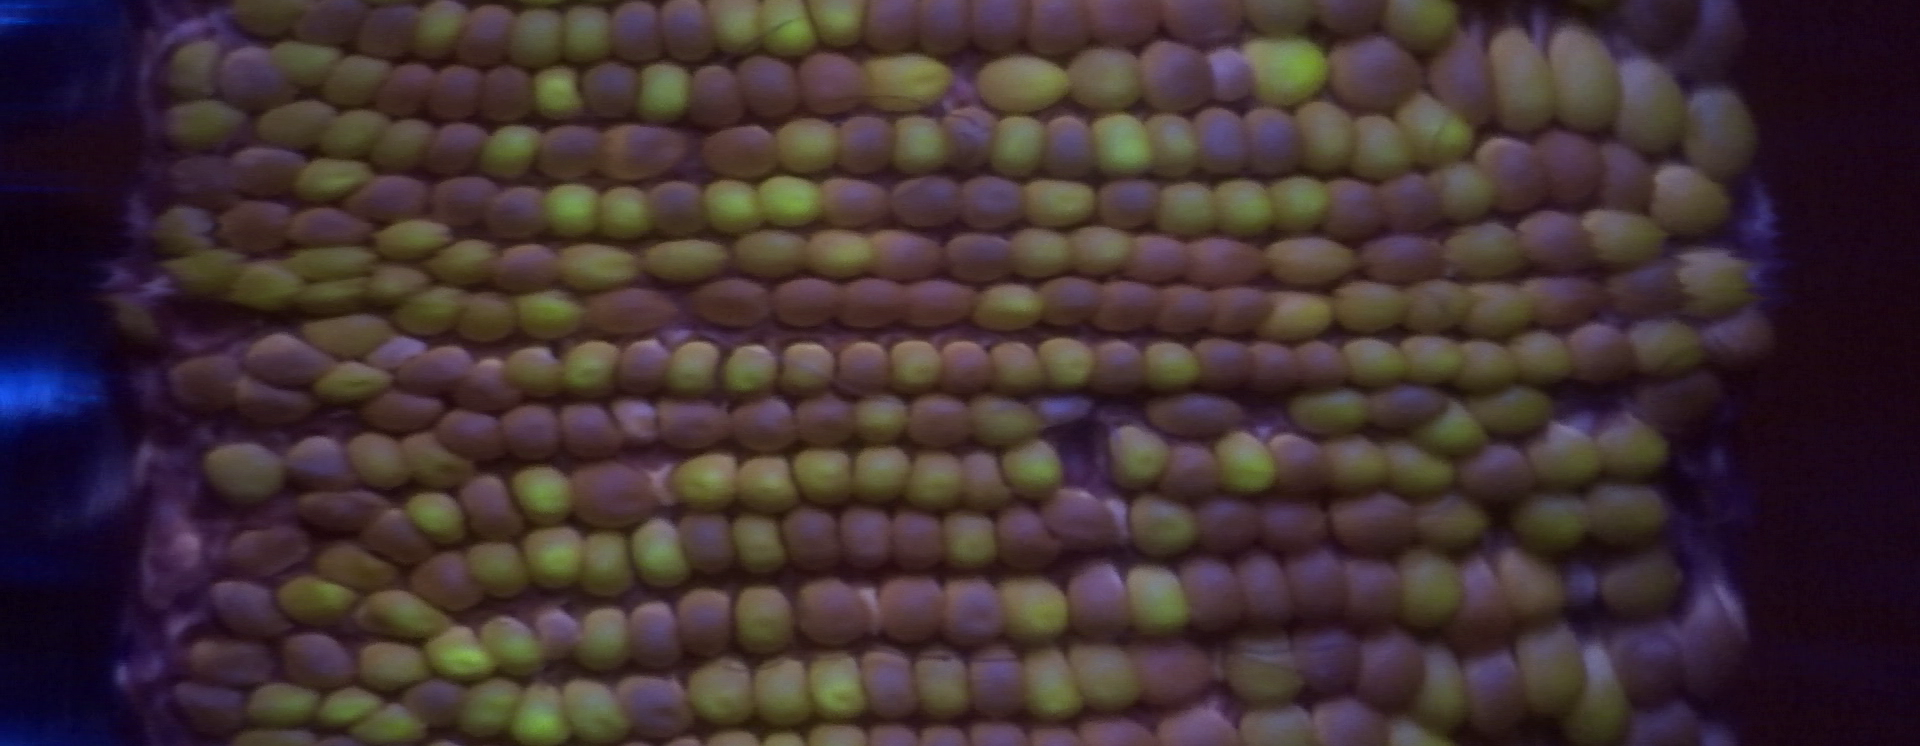fluorescent: (1614, 55, 1686, 153), (1551, 24, 1619, 129), (1491, 28, 1551, 138), (1513, 628, 1589, 710), (1224, 631, 1302, 709), (1689, 93, 1763, 174), (204, 439, 287, 510), (1398, 548, 1463, 635), (1528, 414, 1604, 488), (1654, 160, 1733, 232), (1250, 33, 1327, 104), (867, 59, 962, 115), (1674, 249, 1749, 320), (973, 58, 1069, 113), (1513, 491, 1596, 555), (1580, 206, 1668, 263), (1610, 548, 1681, 619), (1584, 486, 1667, 548), (804, 650, 872, 724), (1407, 96, 1473, 168), (167, 247, 239, 314), (1576, 652, 1626, 746), (1073, 639, 1139, 710), (1128, 560, 1187, 639), (733, 587, 796, 661), (687, 660, 759, 724), (1412, 643, 1467, 726), (360, 592, 454, 639), (1300, 97, 1353, 180), (1005, 581, 1073, 646), (1449, 225, 1524, 283), (567, 676, 629, 746), (1124, 492, 1194, 555), (1075, 47, 1146, 108), (1382, 437, 1455, 497), (1460, 281, 1532, 341), (1631, 316, 1701, 377), (1347, 115, 1412, 180), (1022, 650, 1080, 723), (1260, 288, 1333, 344), (1608, 416, 1671, 481), (1212, 173, 1275, 239), (733, 457, 804, 514), (1090, 111, 1153, 175), (522, 530, 585, 594), (793, 446, 856, 511), (917, 650, 973, 722), (512, 465, 574, 529), (846, 443, 911, 505), (1332, 279, 1409, 331), (512, 680, 572, 746), (1267, 234, 1352, 281), (425, 625, 493, 681), (733, 511, 790, 579), (1108, 423, 1164, 491), (647, 233, 727, 281), (756, 657, 809, 728), (394, 283, 460, 341), (305, 309, 384, 356), (168, 100, 249, 147), (633, 60, 692, 124), (1270, 173, 1329, 236), (1217, 428, 1272, 495), (1412, 401, 1480, 454), (759, 169, 820, 229), (1237, 702, 1320, 746), (579, 537, 637, 600), (631, 522, 688, 586), (1331, 436, 1389, 500), (671, 454, 738, 508), (1344, 334, 1413, 387), (1284, 390, 1364, 435), (486, 615, 547, 674), (518, 285, 587, 337), (909, 454, 969, 513), (1516, 331, 1573, 392), (778, 118, 838, 175), (1402, 279, 1464, 334), (1139, 341, 1202, 394), (358, 642, 427, 691), (561, 244, 638, 288), (736, 230, 807, 278), (278, 575, 353, 620), (480, 121, 536, 181), (507, 9, 563, 69), (414, 4, 470, 64), (1011, 227, 1073, 282), (1025, 178, 1095, 225), (1439, 159, 1489, 225), (708, 5, 767, 61), (576, 612, 631, 673), (411, 436, 471, 491), (942, 513, 997, 573), (756, 2, 816, 58), (996, 115, 1049, 176), (256, 100, 331, 145), (326, 58, 388, 110), (1416, 499, 1484, 546), (316, 359, 388, 404), (1387, 2, 1460, 48), (294, 158, 375, 198), (408, 492, 465, 549), (1453, 334, 1513, 388), (1476, 388, 1547, 434), (893, 118, 949, 174), (1157, 179, 1213, 235), (531, 67, 589, 122), (1075, 225, 1133, 281), (1008, 443, 1063, 501), (168, 38, 222, 97), (108, 294, 167, 348), (973, 282, 1040, 330), (427, 239, 493, 287), (229, 262, 295, 310), (468, 676, 518, 739), (245, 684, 320, 725), (594, 183, 649, 239), (807, 227, 869, 276), (563, 338, 612, 401), (471, 539, 527, 594), (353, 432, 408, 488), (852, 387, 906, 443), (367, 220, 447, 258), (1404, 332, 1461, 385), (324, 111, 387, 158), (460, 290, 516, 343), (561, 6, 612, 62), (707, 178, 760, 230), (888, 336, 940, 390), (967, 394, 1035, 436), (1149, 108, 1191, 173), (317, 686, 381, 729), (293, 247, 375, 281), (545, 183, 595, 236), (1040, 338, 1096, 386), (503, 345, 558, 393), (366, 267, 421, 314), (279, 40, 337, 85), (354, 707, 422, 744), (672, 341, 721, 392), (724, 347, 775, 393), (298, 281, 375, 311), (811, 2, 860, 49)
nonfluorescent: (1675, 571, 1753, 685), (1423, 27, 1498, 122), (1445, 552, 1515, 646), (1600, 256, 1690, 327), (1332, 36, 1417, 110), (1460, 650, 1531, 733), (569, 461, 658, 524), (1474, 130, 1542, 213), (796, 581, 874, 650), (1333, 494, 1420, 556), (1697, 303, 1773, 374), (1676, 6, 1747, 82), (1618, 635, 1689, 709), (1337, 552, 1407, 628), (1042, 484, 1123, 549), (1455, 440, 1531, 508), (616, 673, 699, 735), (1357, 628, 1420, 709), (167, 355, 249, 416), (862, 648, 924, 728), (244, 333, 332, 390), (876, 573, 943, 647), (994, 499, 1059, 575), (1180, 552, 1240, 635), (1518, 211, 1596, 274), (1638, 383, 1727, 439), (1289, 543, 1343, 632), (1141, 40, 1210, 110), (790, 53, 864, 116), (606, 122, 688, 180), (1068, 566, 1133, 638), (211, 198, 295, 254), (969, 641, 1026, 722), (189, 635, 280, 685), (1239, 103, 1302, 176), (1259, 496, 1333, 557), (1138, 646, 1213, 706), (1147, 393, 1244, 440), (887, 171, 961, 232), (676, 586, 736, 660), (1592, 145, 1656, 214), (1540, 131, 1597, 209), (408, 549, 476, 612), (560, 404, 631, 465), (1296, 625, 1362, 690), (171, 687, 247, 744), (456, 477, 522, 540), (217, 45, 285, 107), (280, 633, 360, 686), (1240, 552, 1293, 632), (782, 510, 846, 575), (214, 579, 280, 642), (1528, 274, 1607, 327), (1187, 234, 1269, 284), (1191, 108, 1247, 183), (947, 579, 1007, 648), (1322, 171, 1379, 244), (834, 113, 898, 176), (698, 276, 773, 330), (233, 375, 316, 423), (1267, 432, 1327, 499), (295, 491, 393, 532), (902, 391, 971, 448), (227, 143, 302, 195), (348, 173, 424, 224), (704, 125, 780, 176), (901, 281, 977, 332), (744, 55, 804, 120), (729, 396, 796, 453), (970, 1, 1038, 58), (842, 505, 898, 575), (1198, 489, 1260, 550), (838, 281, 910, 333), (399, 343, 473, 394), (773, 281, 842, 334), (460, 2, 516, 70), (1093, 277, 1161, 332), (1319, 691, 1386, 746), (493, 240, 556, 299), (688, 60, 743, 126), (1161, 1, 1250, 42), (944, 103, 996, 173), (890, 507, 947, 571), (934, 343, 999, 398), (1367, 235, 1438, 285), (438, 412, 504, 465), (677, 512, 731, 578), (628, 601, 682, 668), (540, 125, 607, 178), (876, 228, 943, 281), (371, 511, 433, 567), (588, 287, 670, 330), (1367, 383, 1446, 428), (446, 360, 516, 410), (484, 187, 550, 240), (276, 439, 342, 491), (1577, 323, 1633, 385), (478, 67, 533, 130), (1037, 274, 1100, 330), (818, 176, 888, 225), (960, 180, 1030, 229), (613, 2, 666, 67), (1089, 1, 1156, 51), (435, 173, 497, 227), (860, 6, 924, 58), (365, 394, 449, 434), (965, 441, 1011, 512), (1047, 116, 1100, 179), (284, 209, 370, 247), (1155, 706, 1240, 744), (661, 2, 715, 62), (1089, 344, 1150, 397), (1124, 234, 1191, 282), (651, 178, 703, 239), (361, 2, 418, 58), (796, 396, 853, 450), (1200, 334, 1251, 394), (508, 401, 560, 461), (1164, 445, 1224, 496), (1026, 2, 1089, 51), (662, 401, 726, 448), (940, 236, 1018, 276), (373, 62, 429, 116), (834, 343, 891, 394), (296, 2, 361, 47), (408, 681, 473, 725), (1201, 49, 1256, 100), (615, 390, 661, 450), (433, 69, 486, 121), (1216, 281, 1267, 334), (924, 1, 973, 58), (1162, 285, 1218, 334), (1100, 179, 1156, 227), (1296, 336, 1347, 387), (616, 341, 669, 391), (1076, 713, 1153, 746), (433, 126, 484, 175), (1254, 343, 1296, 398), (535, 604, 578, 657)
